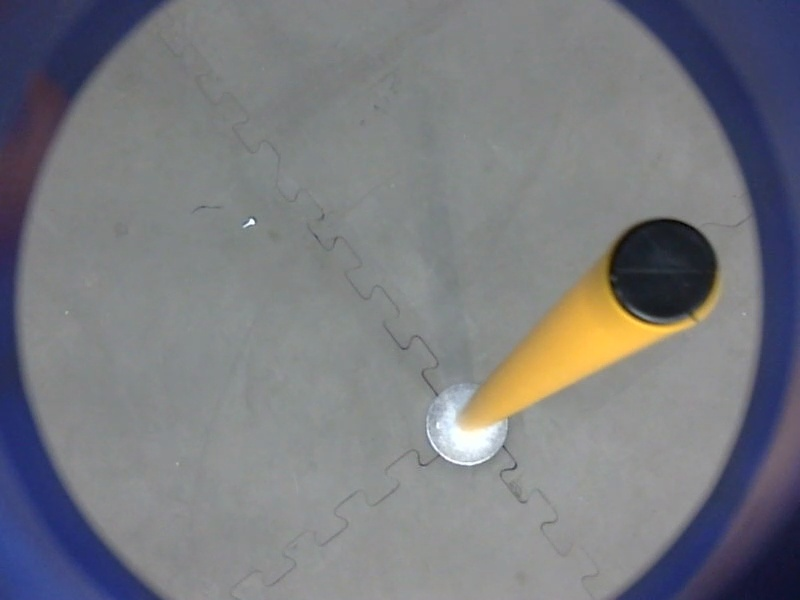tip: (600, 211, 733, 337)
